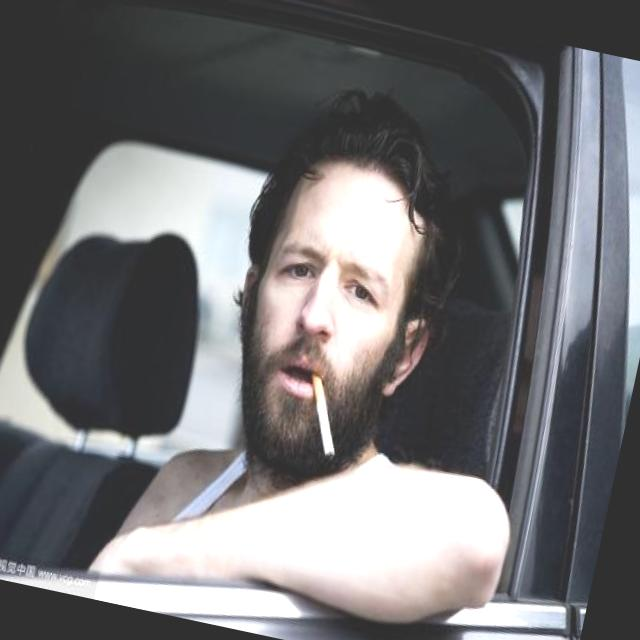smoke: (298, 372, 350, 457)
